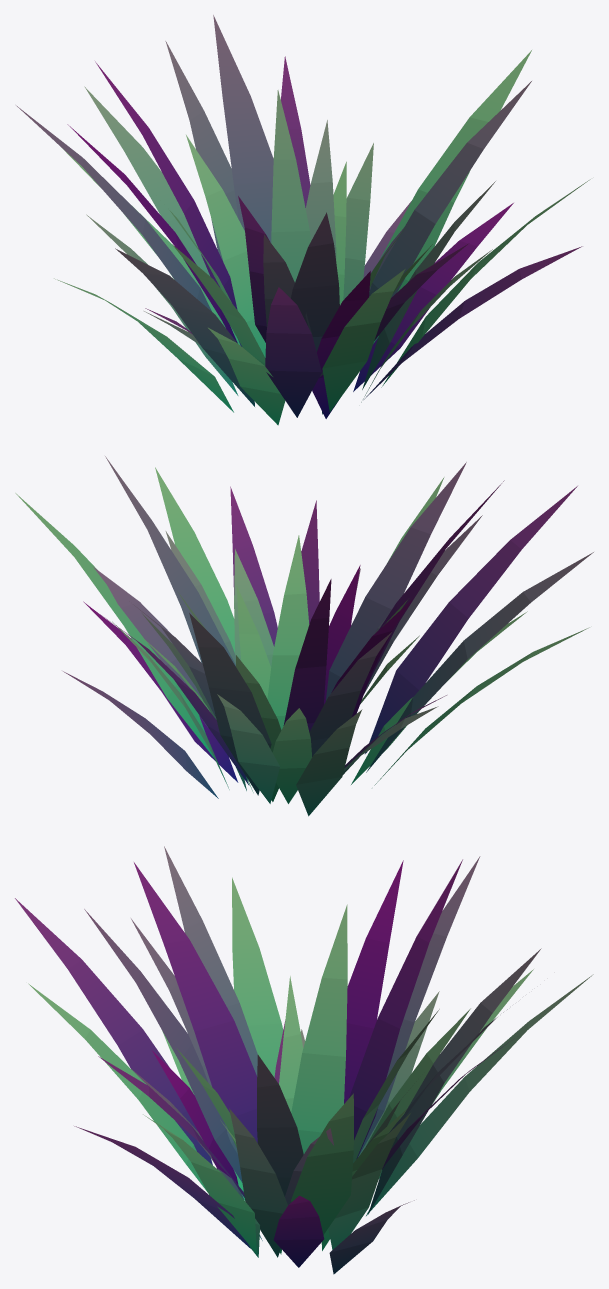
File: SM_Grass_Tuft_01.fbx
3 renders of one model, top to bottom at view 1: azimuth 30°, elevation 25°; view 2: azimuth 150°, elevation 25°; view 3: azimuth 270°, elevation 25°, orthographic. The views are drawn at different scales.
Parts seen in each view (by area): view 1: SM_Grass_Tuft_01; view 2: SM_Grass_Tuft_01; view 3: SM_Grass_Tuft_01.
Boxes of the visible parts, box(x1,y1,x2,y2) form: SM_Grass_Tuft_01: box(16, 15, 590, 425); SM_Grass_Tuft_01: box(15, 456, 593, 816); SM_Grass_Tuft_01: box(15, 846, 593, 1274).
Bounding box in the file's own units: 1.61 × 0.9149 × 1.47.
